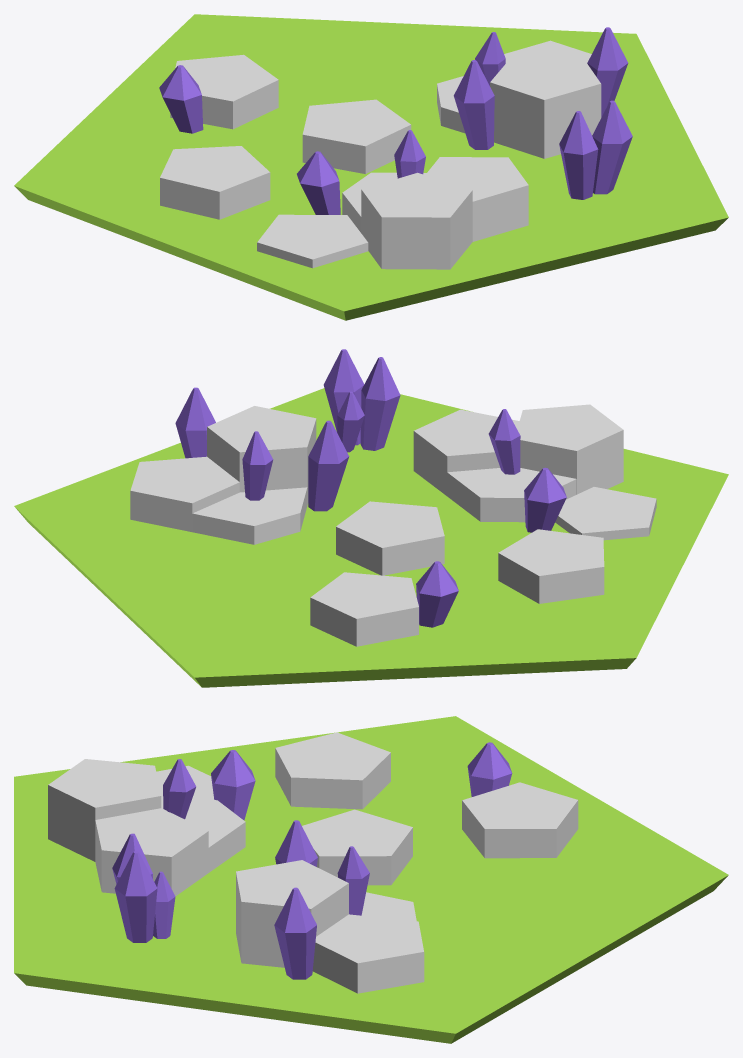
File: RockTilesCrystal_purple2.fbx
The picture shows the model from 3 angles, top to bottom: view 1: azimuth 30°, elevation 25°; view 2: azimuth 150°, elevation 25°; view 3: azimuth 270°, elevation 25°; orthographic projection. The views are drawn at different scales.
Parts seen in each view (by area): view 1: origine.007; view 2: origine.007; view 3: origine.007.
Boxes of the visible parts, x1,y1,x2,y2 form: origine.007: (14,14,728,320); origine.007: (14,349,728,687); origine.007: (14,716,728,1043).
Bounding box in the file's own units: 111 × 17.46 × 105.
